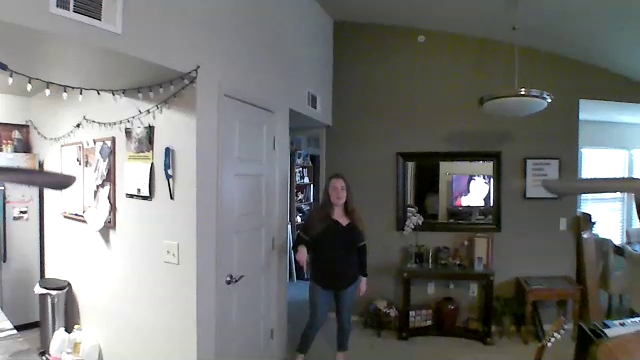down: (291, 242, 312, 277)
